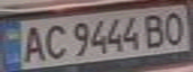4: (121, 12, 145, 52), (87, 16, 109, 55), (106, 15, 127, 53)
9: (69, 19, 93, 57)
A: (18, 22, 48, 64)
B: (139, 11, 172, 48)
C: (39, 21, 69, 61)
O: (160, 8, 190, 46)
